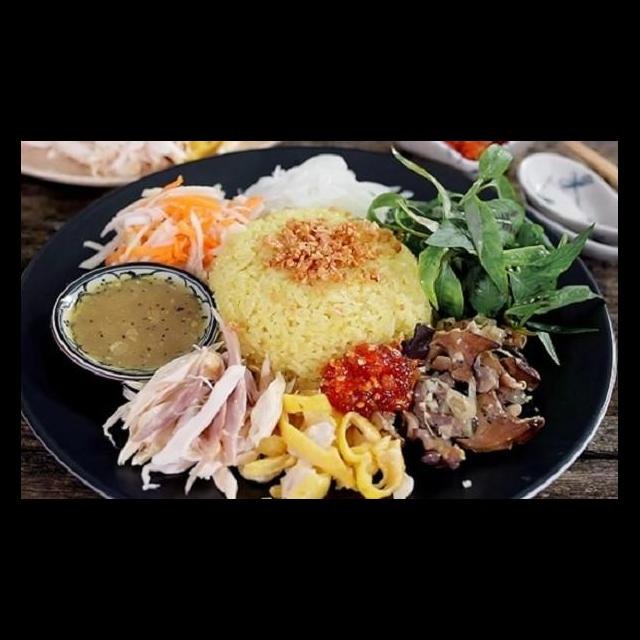com: (200, 203, 438, 392)
com ga: (67, 169, 563, 499)
rau ram: (364, 142, 532, 323), (468, 218, 612, 370)
thit ga: (102, 337, 300, 499), (234, 387, 416, 499)
